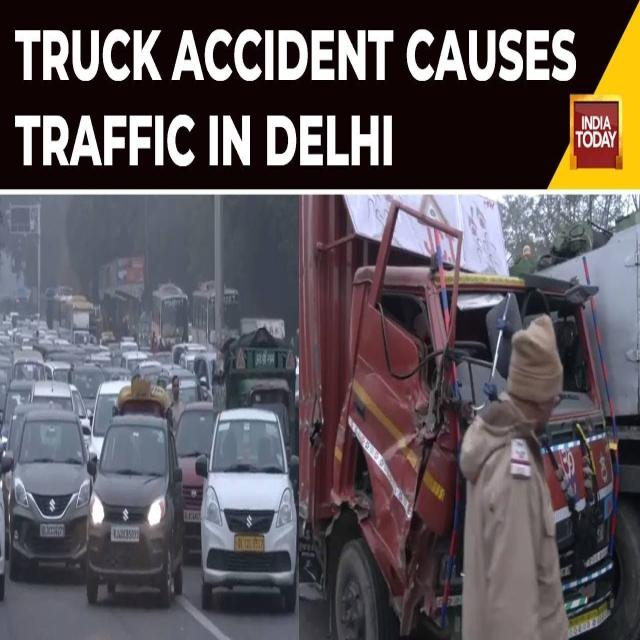accident: (299, 193, 614, 638)
car: (86, 378, 182, 609), (195, 409, 299, 611), (6, 404, 90, 580)
